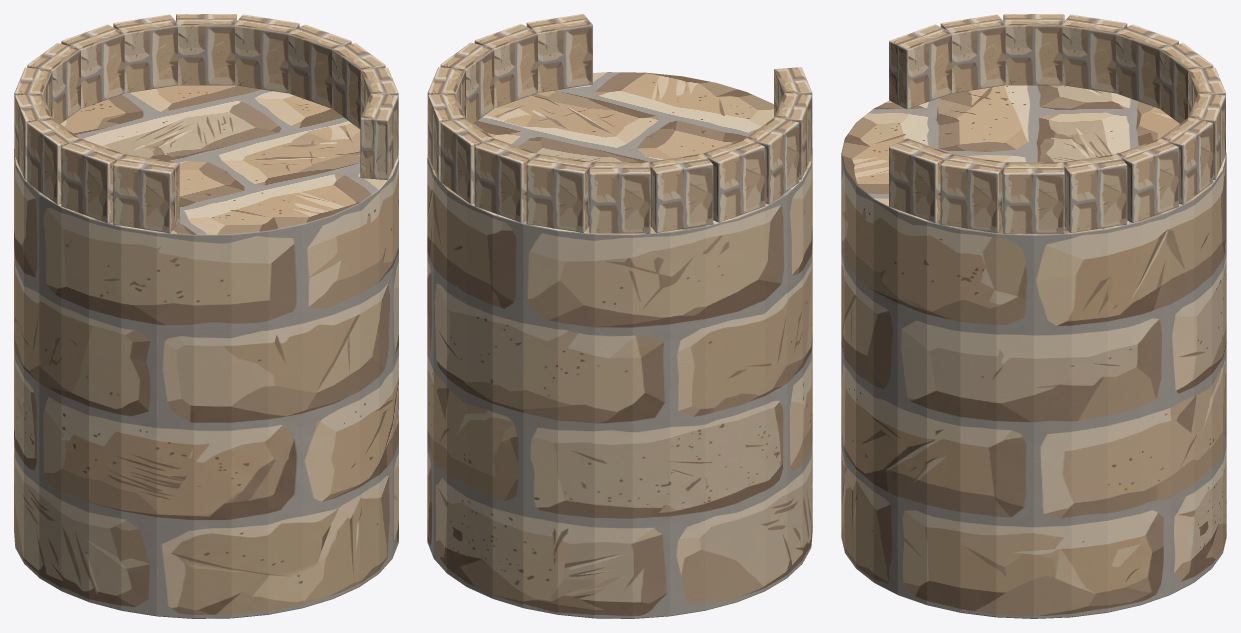
The model's file is fortress_round_tower_walkable_LOD1.glb.
The picture shows the model from 3 angles, left to right: view 1: azimuth 30°, elevation 25°; view 2: azimuth 150°, elevation 25°; view 3: azimuth 270°, elevation 25°; orthographic projection.
Parts seen in each view (by area): view 1: LOD_Tower, LOD_Parapet.011, LOD_Parapet.003, LOD_Parapet.002, LOD_Parapet.004, LOD_Parapet.010, LOD_Parapet.001, LOD_Parapet.005, LOD_Parapet.012, LOD_Parapet.009, LOD_Parapet, LOD_Parapet.006 (+3 smaller); view 2: LOD_Tower, LOD_Parapet.005, LOD_Parapet.007, LOD_Parapet.006, LOD_Parapet.012, LOD_Parapet.008, LOD_Parapet.004, LOD_Parapet.013, LOD_Parapet.003, LOD_Parapet.009, LOD_Parapet, LOD_Parapet.002 (+3 smaller); view 3: LOD_Tower, LOD_Parapet.001, LOD_Parapet.013, LOD_Parapet.011, LOD_Parapet, LOD_Parapet.009, LOD_Parapet.008, LOD_Parapet.010, LOD_Parapet.012, LOD_Parapet.002, LOD_Parapet.007, LOD_Parapet.003 (+3 smaller).
Boxes of the visible parts, left/top/right/bottom form: LOD_Tower: left=14, top=85, right=398, bottom=618; LOD_Parapet.011: left=113, top=154, right=179, bottom=233; LOD_Parapet.003: left=176, top=14, right=236, bottom=85; LOD_Parapet.002: left=234, top=14, right=299, bottom=93; LOD_Parapet.004: left=113, top=14, right=178, bottom=93; LOD_Parapet.010: left=61, top=138, right=123, bottom=223; LOD_Parapet.001: left=288, top=24, right=351, bottom=108; LOD_Parapet.005: left=61, top=24, right=124, bottom=108; LOD_Parapet.012: left=360, top=93, right=398, bottom=179; LOD_Parapet.009: left=27, top=117, right=79, bottom=204; LOD_Parapet: left=332, top=43, right=385, bottom=128; LOD_Parapet.006: left=27, top=43, right=80, bottom=123; LOD_Tower: left=427, top=72, right=812, bottom=618; LOD_Parapet.005: left=526, top=154, right=591, bottom=232; LOD_Parapet.007: left=649, top=154, right=713, bottom=232; LOD_Parapet.006: left=589, top=162, right=650, bottom=233; LOD_Parapet.012: left=526, top=14, right=592, bottom=92; LOD_Parapet.008: left=702, top=138, right=765, bottom=222; LOD_Parapet.004: left=474, top=138, right=537, bottom=222; LOD_Parapet.013: left=474, top=24, right=537, bottom=108; LOD_Parapet.003: left=440, top=117, right=493, bottom=204; LOD_Parapet.009: left=746, top=117, right=799, bottom=204; LOD_Parapet: left=440, top=42, right=494, bottom=123; LOD_Parapet.002: left=427, top=93, right=465, bottom=179; LOD_Tower: left=841, top=85, right=1226, bottom=618; LOD_Parapet.001: left=1062, top=154, right=1127, bottom=232; LOD_Parapet.013: left=940, top=154, right=1005, bottom=232; LOD_Parapet.011: left=889, top=24, right=951, bottom=109; LOD_Parapet: left=1003, top=162, right=1064, bottom=233; LOD_Parapet.009: left=1003, top=14, right=1064, bottom=85; LOD_Parapet.008: left=1062, top=14, right=1127, bottom=93; LOD_Parapet.010: left=940, top=14, right=1005, bottom=93; LOD_Parapet.012: left=889, top=138, right=951, bottom=222; LOD_Parapet.002: left=1116, top=138, right=1178, bottom=222; LOD_Parapet.007: left=1116, top=24, right=1178, bottom=108; LOD_Parapet.003: left=1160, top=117, right=1213, bottom=204.
Size of the model in its own units: 6.5 by 8.26 by 6.5.
1 material, 1 textured.
